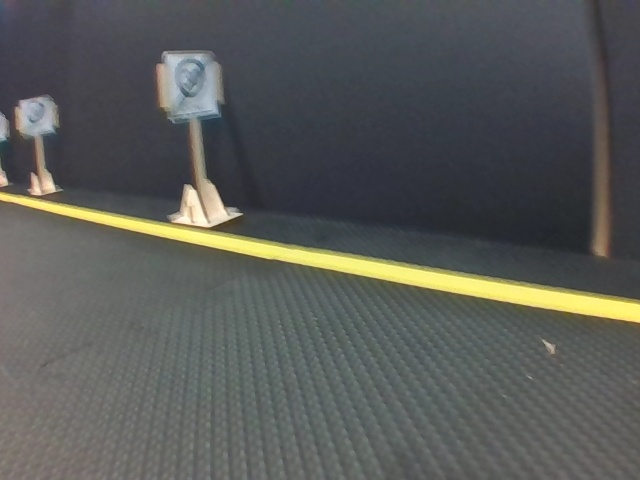no30: (164, 51, 216, 117), (21, 98, 51, 133)
